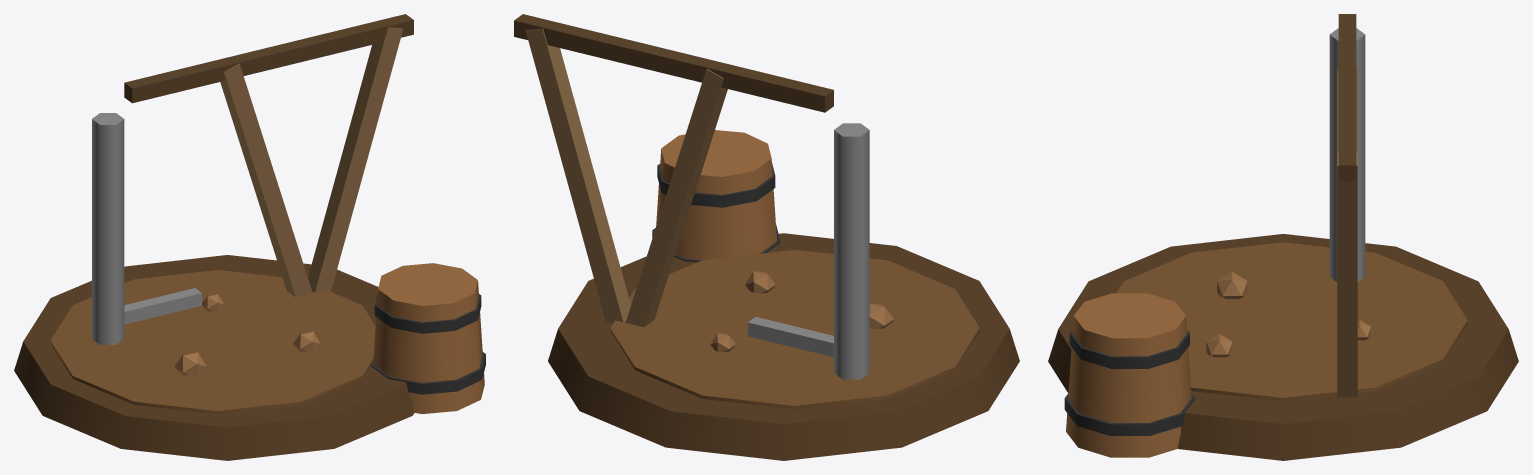
The model's file is level1.glb.
3 views of the same model, side by side, from view 1: azimuth 30°, elevation 25°; view 2: azimuth 150°, elevation 25°; view 3: azimuth 270°, elevation 25° (orthographic). The views are drawn at different scales.
Parts seen in each view (by area): view 1: object 2, object 1, object 11, object 9, object 7, lever, object 6, object 10, object 13, object 12, object 3; view 2: object 2, object 1, object 11, object 9, object 7, lever, object 6, object 10, object 13, object 3, object 5; view 3: object 2, object 1, object 11, object 7, object 9, lever, object 12, object 13, object 3, object 5.
Boxes of the visible parts, x1,y1,x2,y2 form: object 2: (50,270,375,414); object 1: (14,255,414,460); object 11: (373,263,484,413); object 9: (92,113,124,344); object 7: (308,27,403,292); lever: (124,14,413,103); object 6: (220,63,312,297); object 10: (124,288,201,324); object 13: (374,292,481,333); object 12: (370,352,485,394); object 3: (174,352,206,375); object 2: (610,250,979,409); object 1: (548,233,1019,460); object 11: (656,130,776,259); object 9: (834,123,869,379); object 7: (525,28,630,322); lever: (514,14,833,112); object 6: (625,69,727,327); object 10: (748,317,833,357); object 13: (657,163,775,207); object 3: (869,303,893,328); object 5: (745,271,775,293); object 2: (1116,242,1467,401); object 1: (1048,234,1518,460); object 11: (1066,293,1191,457); object 7: (1337,152,1357,397); object 9: (1329,28,1365,281); lever: (1338,14,1356,181); object 12: (1064,393,1195,435); object 13: (1069,330,1189,368); object 3: (1217,272,1247,298); object 5: (1206,334,1232,357).
Size of the model in its own units: 1.97 by 1.37 by 1.84.
